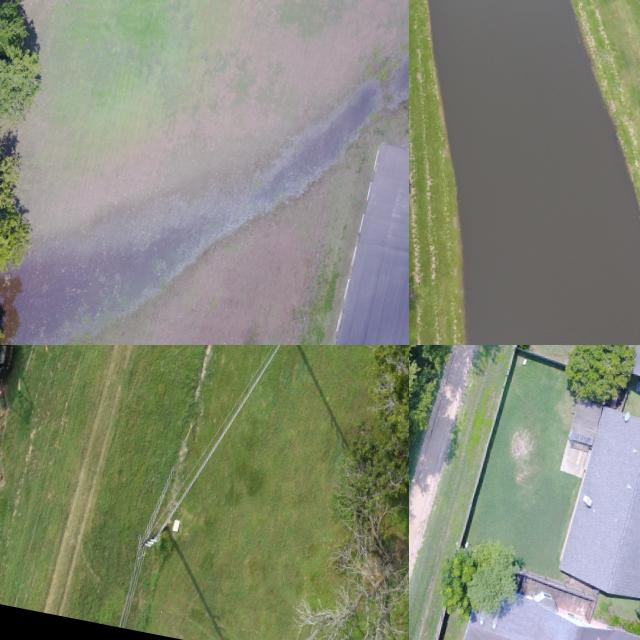fire: (10, 53, 409, 345), (429, 0, 640, 345)
